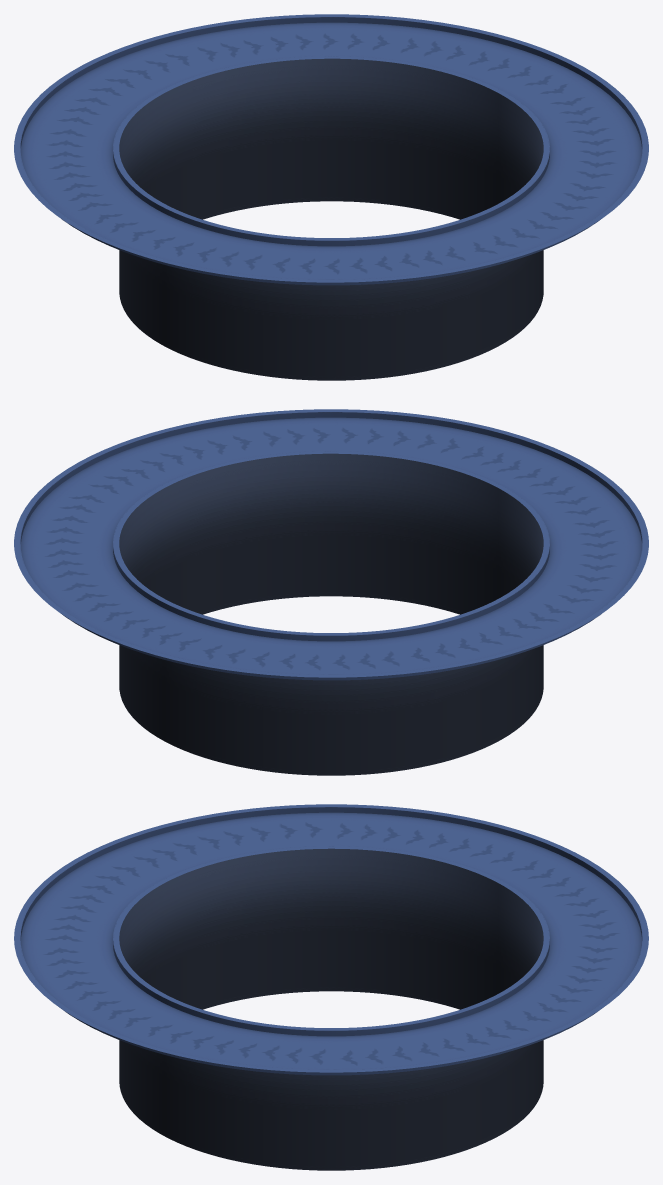
File: table (1).glb
The picture shows the model from 3 angles, top to bottom: view 1: azimuth 30°, elevation 25°; view 2: azimuth 150°, elevation 25°; view 3: azimuth 270°, elevation 25°; orthographic projection.
Visible parts, largest first — view 1: table_05; view 2: table_05; view 3: table_05.
Part boxes in pixels (x1,y1,x2,y2): table_05: (14,14,648,380); table_05: (14,409,648,775); table_05: (14,804,648,1170).
Bounding box in the file's own units: 0.9674 × 0.2396 × 0.9674.
Materials: 1 (1 with a texture image).
